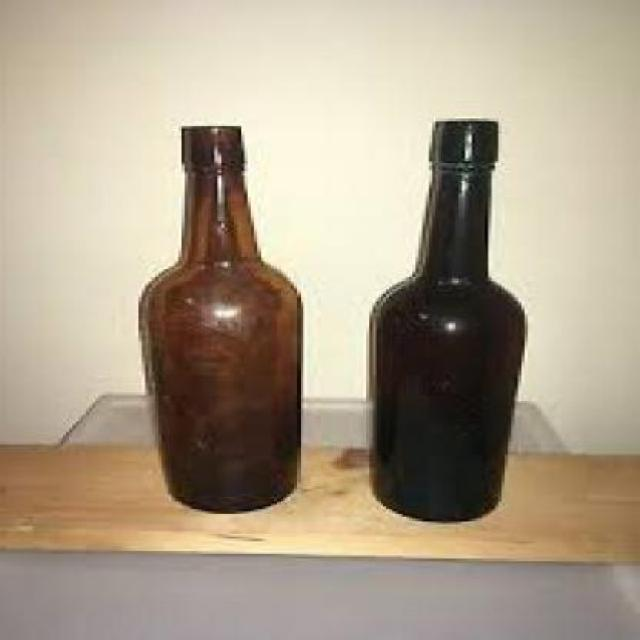GLASS: (142, 124, 307, 507), (373, 116, 524, 522)
